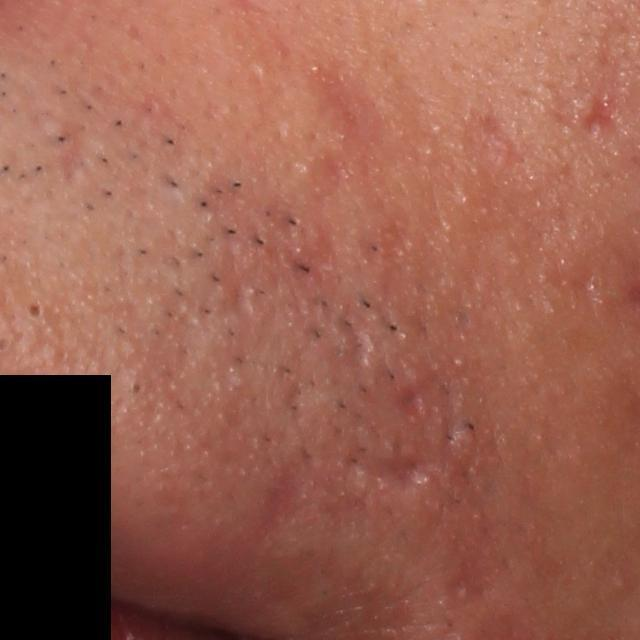atrophic_scar: (252, 449, 316, 544), (357, 447, 448, 497), (334, 305, 371, 378), (54, 117, 89, 192), (387, 378, 436, 427), (582, 90, 617, 133)
comedo: (126, 376, 153, 403), (25, 298, 50, 322)
